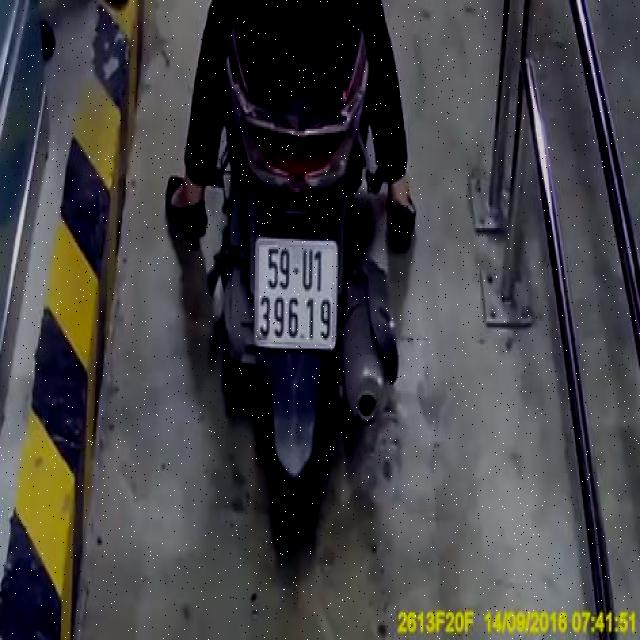1: (303, 295, 317, 343), (314, 247, 326, 297)
3: (256, 292, 272, 338)
5: (262, 244, 281, 292)
6: (286, 293, 300, 340)
9: (278, 245, 292, 292), (273, 295, 287, 339), (319, 296, 332, 341)
U: (298, 244, 314, 294)
